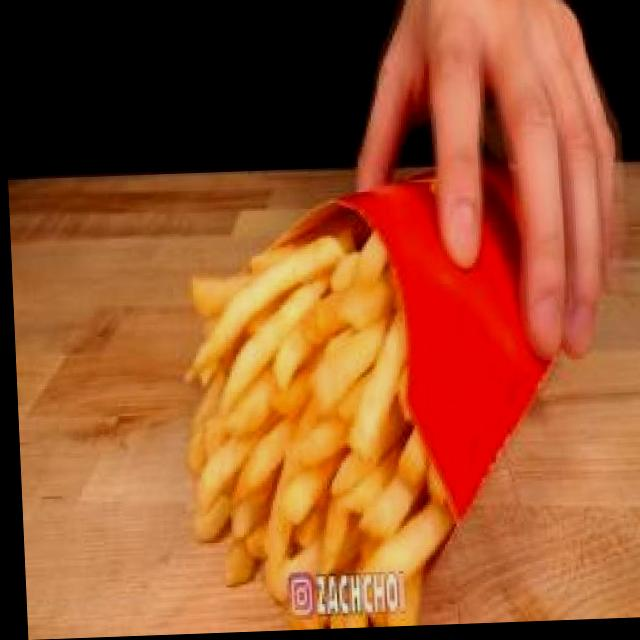french fries: (152, 187, 472, 636)
